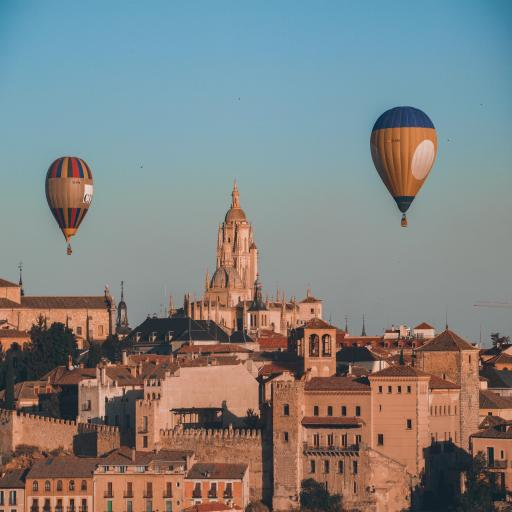hot air ballon: (371, 104, 439, 229), (44, 152, 96, 258)
